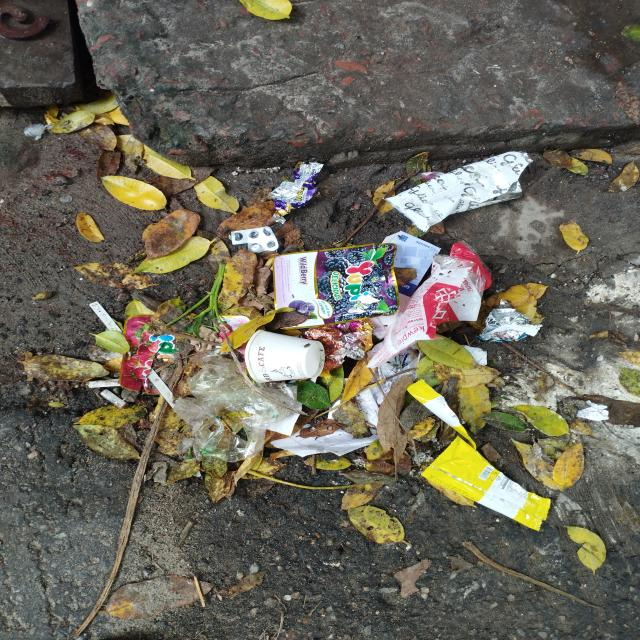paper: (243, 330, 326, 386)
